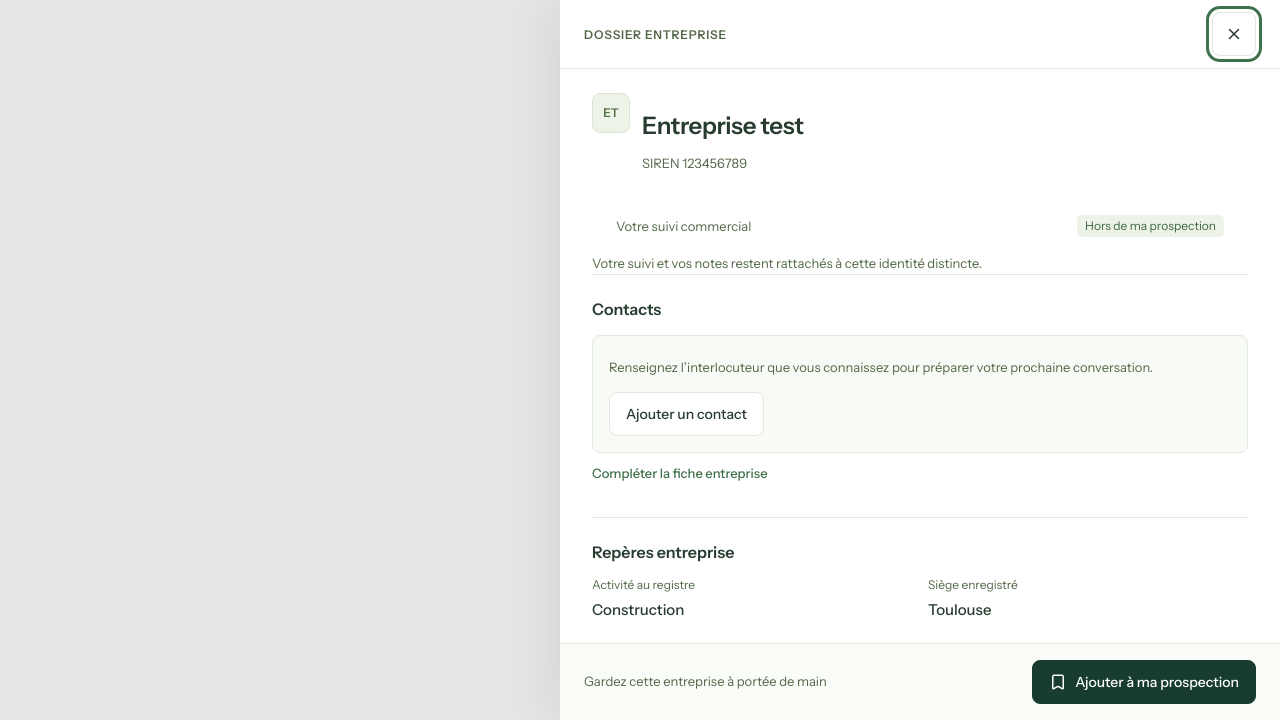
Scenario: one server-backed company dossier › refreshes public enrichment without closing or erasing an in-progress private contact
The width and height of the screenshot is (1280, 720).
Expected: the heading "Entreprise test" is shown, [642,109,804,144]
Click the button "Compléter la fiche entreprise". click: (680, 473)
box: [592,453,768,493]
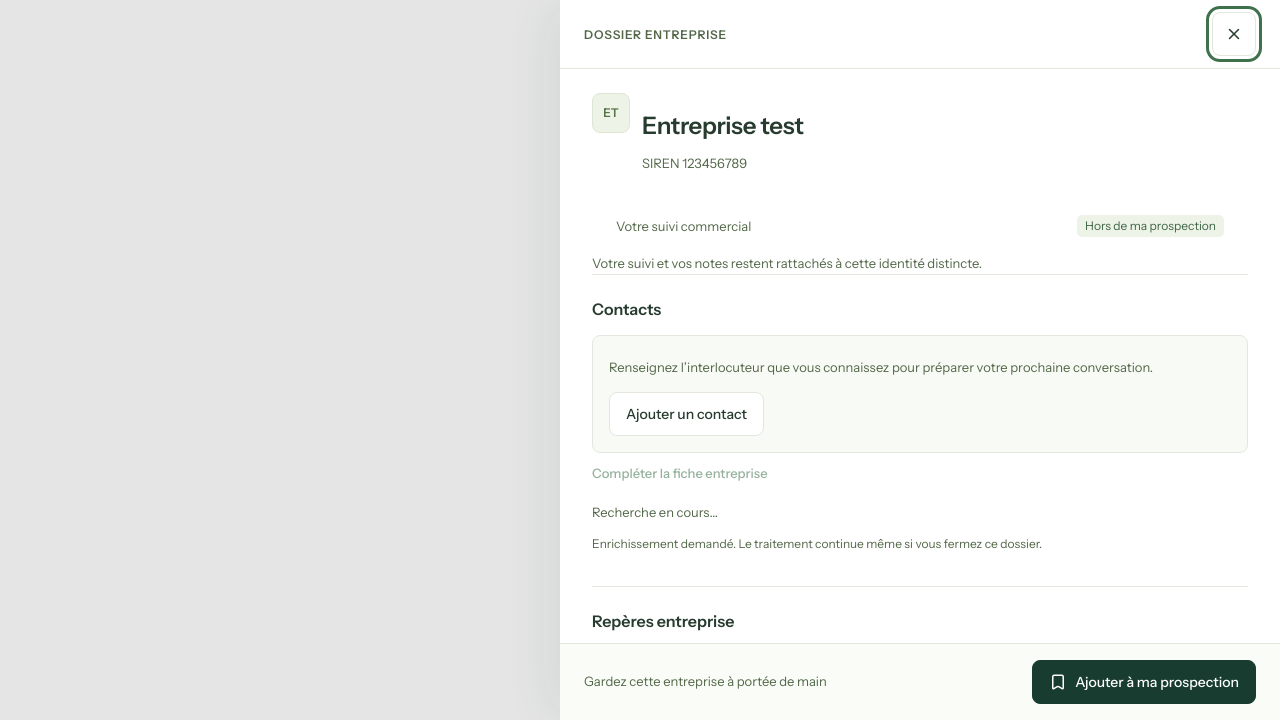
Click the button "Ajouter un contact". click: (687, 414)
box: [609,392,764,436]
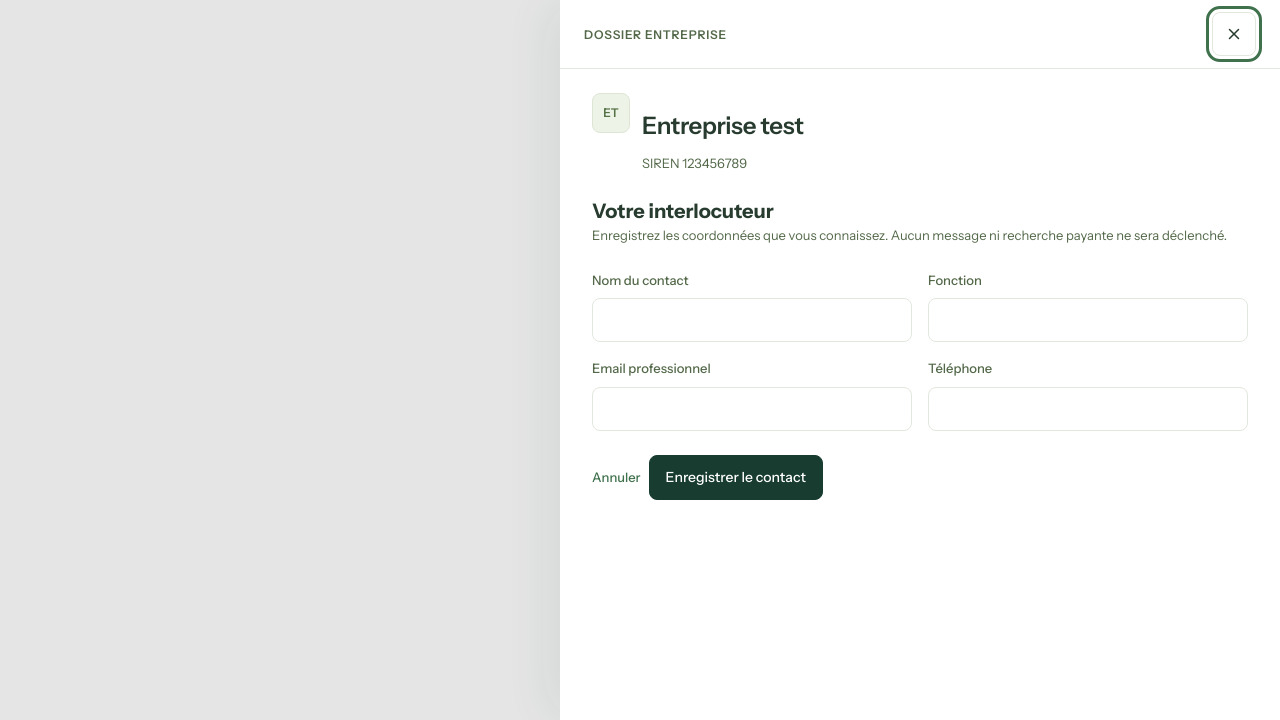
Type "Mon brouillon privé" into the field labelled "Nom du contact". click: (752, 320)
box: [592,298,912,342]
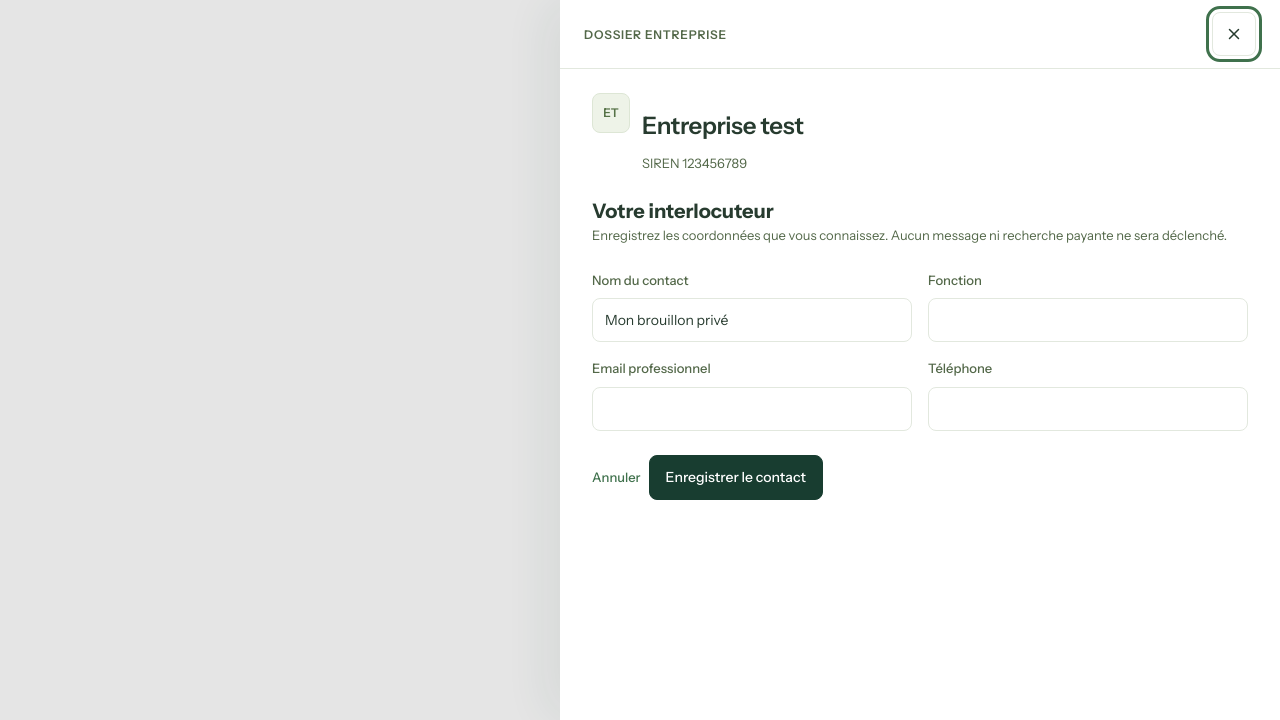
Type "prive@example.com" into the field labelled "Email professionnel". click: (752, 409)
box: [592,387,912,431]
Wait 2000 ms
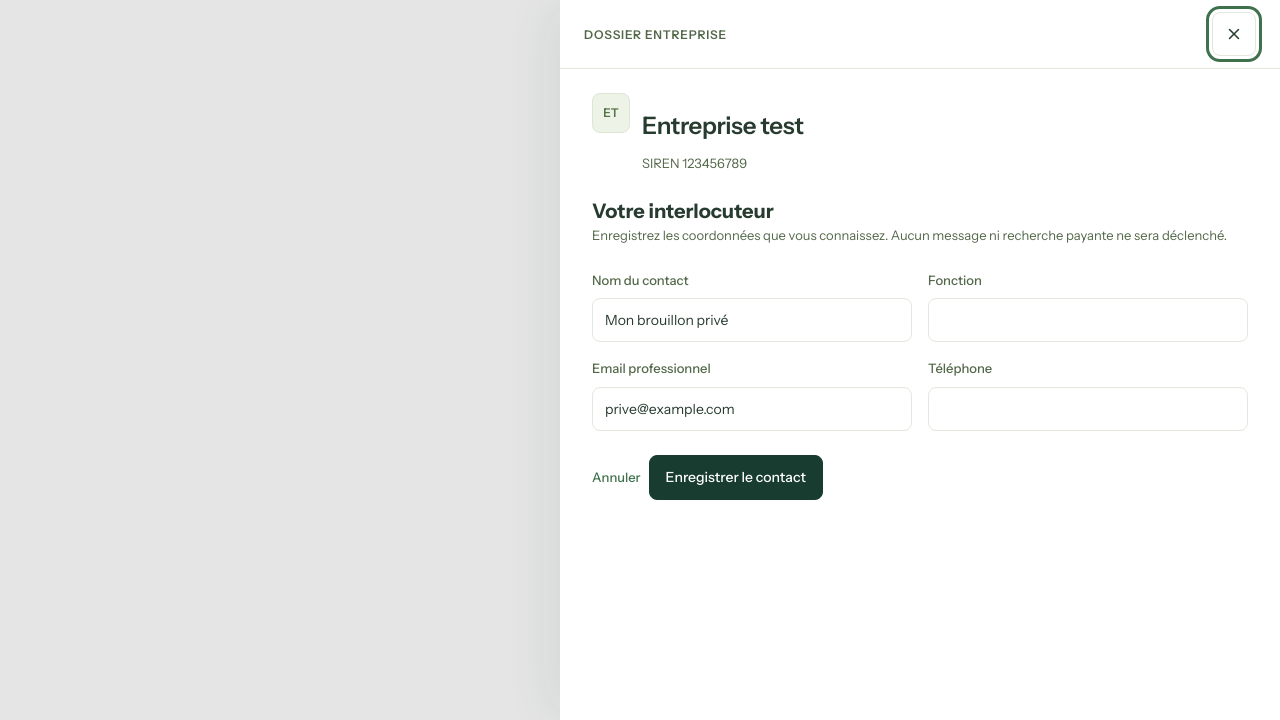
Click the button "Annuler". click: (616, 477)
box: [592,457,640,497]
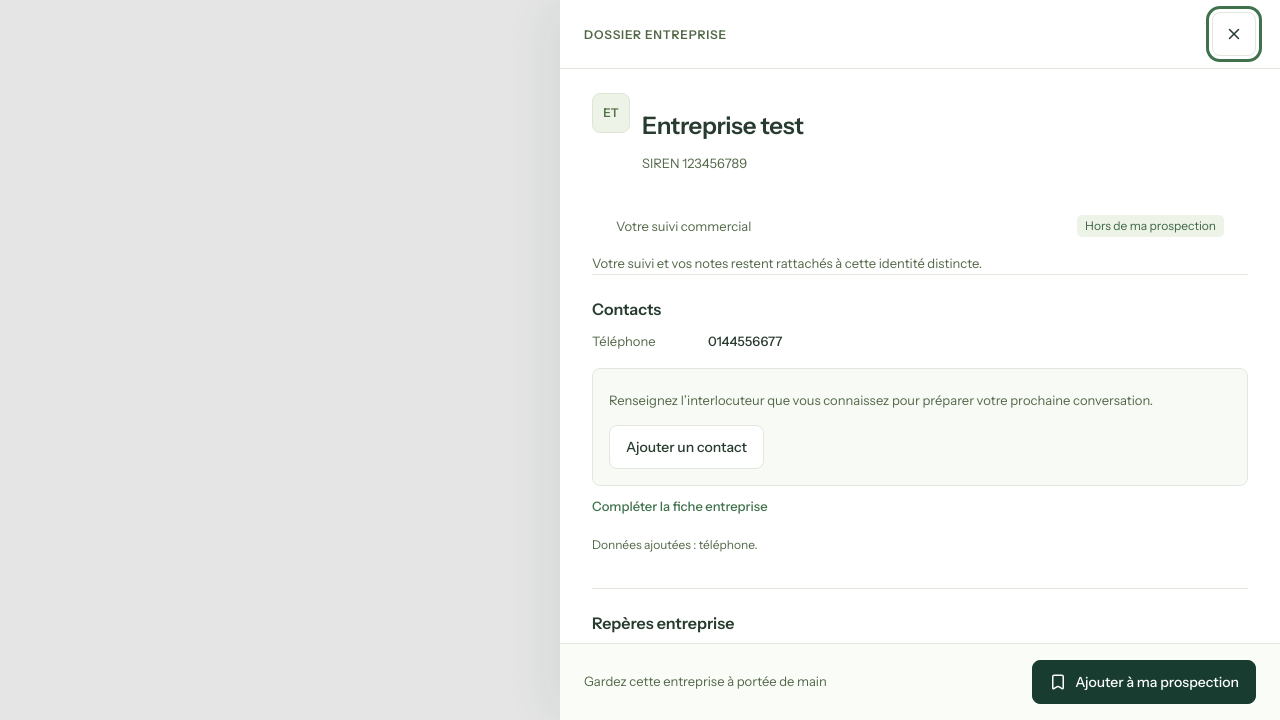
Expected: the link "0144556677" is shown, [708,334,782,350]
